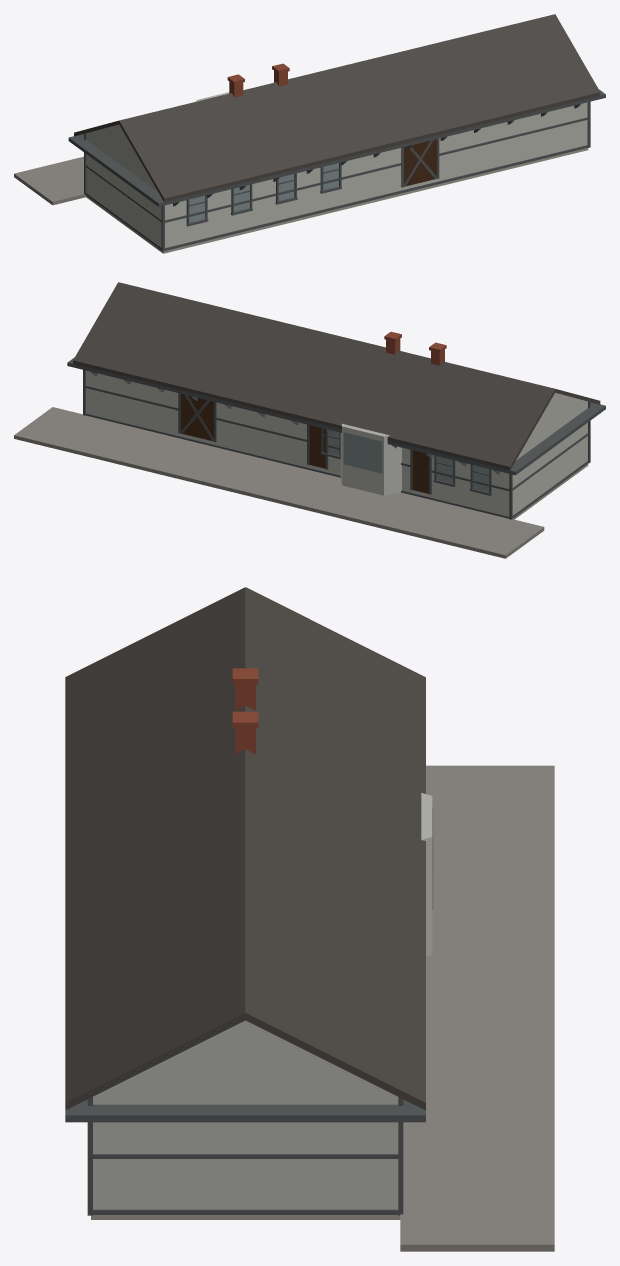
File: Standard_20_Depot.glb
The picture shows the model from 3 angles, top to bottom: view 1: azimuth 30°, elevation 25°; view 2: azimuth 150°, elevation 25°; view 3: azimuth 270°, elevation 25°; orthographic projection. The views are drawn at different scales.
Parts seen in each view (by area): view 1: roof, walls, trim, platform, foundation, glass, doors, sash, chimney; view 2: roof, platform, walls, trim, doors, glass, sash, chimney; view 3: roof, platform, walls, trim, chimney, foundation.
Boxes of the visible parts, x1,y1,x2,y2 form: roof: (74,14,600,201); walls: (86,92,587,247); trim: (68,89,605,251); platform: (14,156,85,205); foundation: (86,148,588,253); glass: (189,163,338,222); doors: (404,139,437,186); sash: (186,162,341,226); chimney: (227,63,289,97); roof: (73,282,600,470); platform: (14,407,544,558); walls: (86,370,587,516); trim: (67,357,605,519); doors: (180,394,428,493); glass: (328,431,488,492); sash: (320,428,491,495); chimney: (384,331,446,365); roof: (65,587,425,1109); platform: (400,765,554,1251); walls: (93,793,432,1209); trim: (65,1097,425,1215); chimney: (232,668,258,754); foundation: (91,1215,400,1219).
Bounding box in the file's own units: 0.9249 × 0.2165 × 0.3994.
